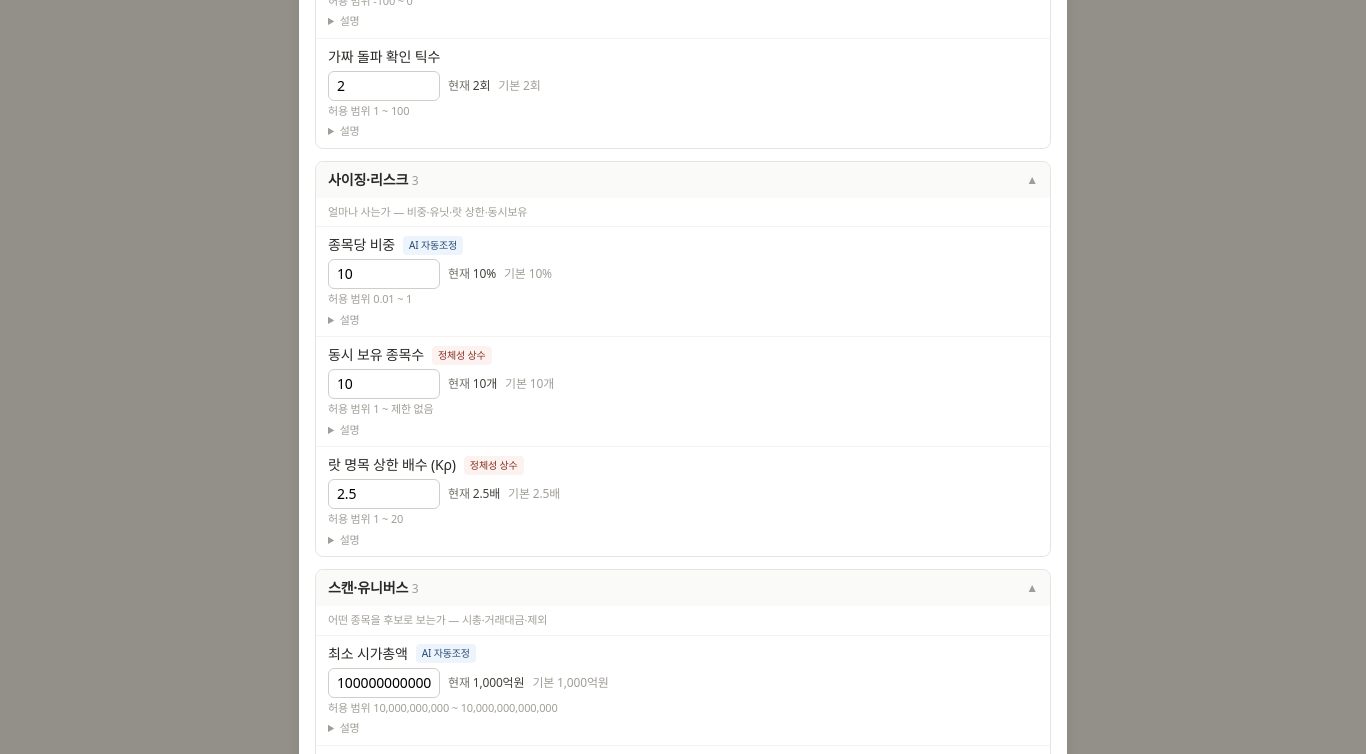
Test: cycle278 F09~F12 — 현재값/기본값·diff·정체성 2단계 확인 › F11 identity 키를 바꾸면 확인 체크박스가 나타나고 켜기 전에는 저장이 막힌다
The width and height of the screenshot is (1366, 754).
(page scrolled)
Replace the text in the field named "동시 보유 종목수" with "8" at (384, 384), box x1=328 y1=369 x2=440 y2=399
(page scrolled)
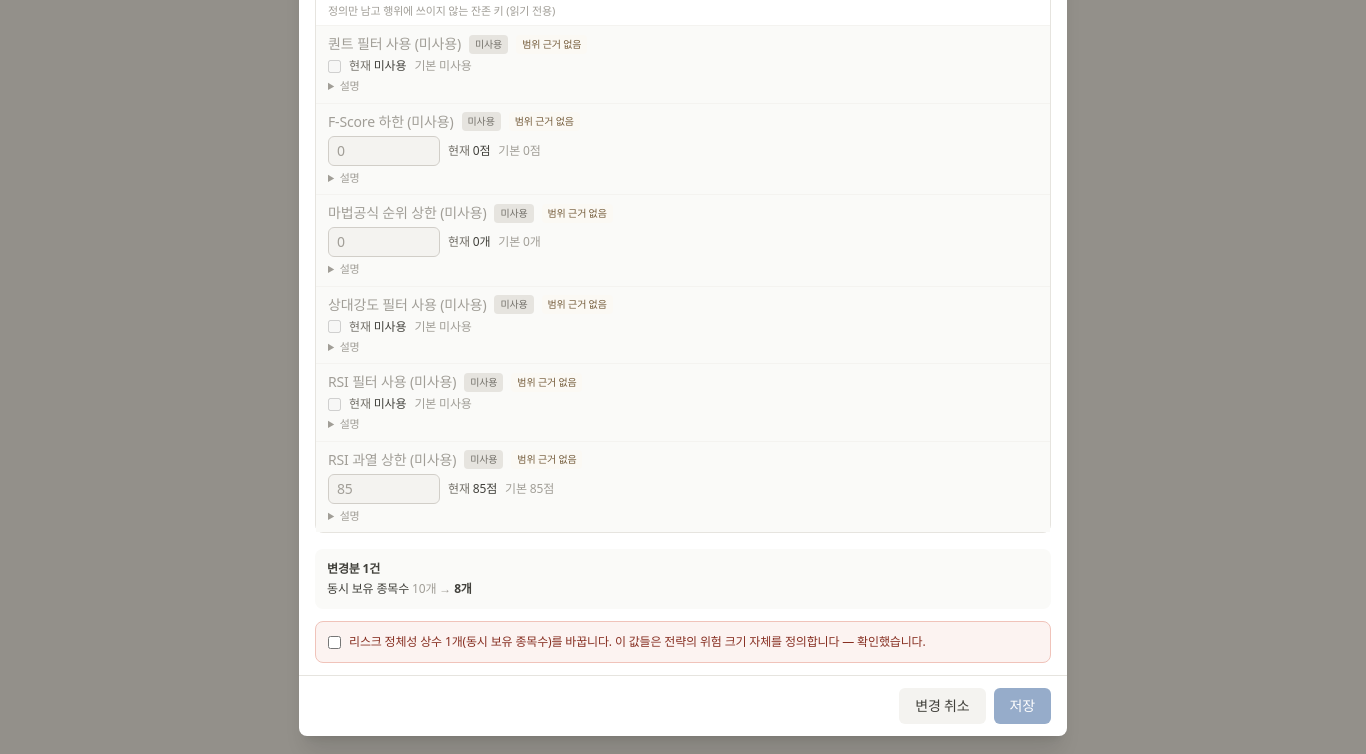
Expected: the checkbox with test id "strategy-params-identity-ack" is not checked
Expected: the button with test id "strategy-params-save" is disabled, x1=994 y1=688 x2=1051 y2=724
Click the checkbox with test id "strategy-params-identity-ack".
click(334, 642)  # box x1=328 y1=636 x2=341 y2=649
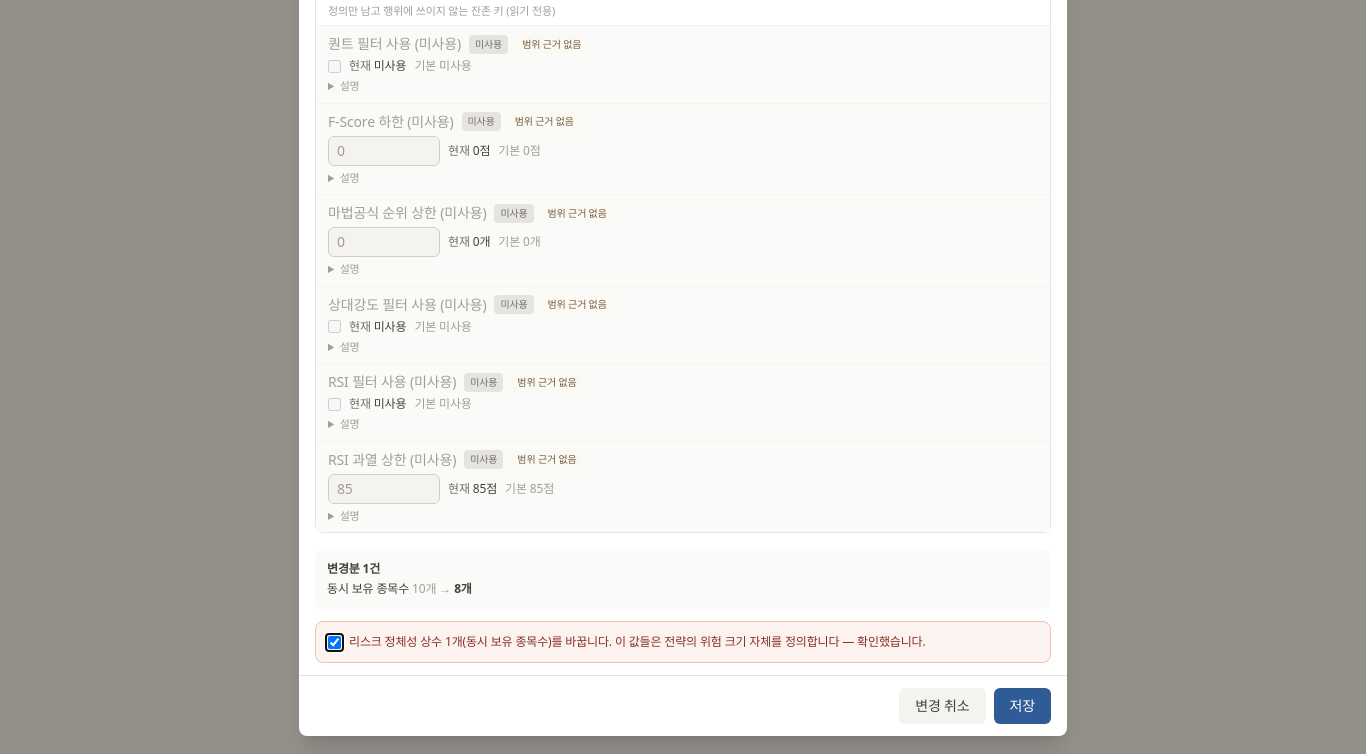
Expected: the button with test id "strategy-params-save" is enabled, x1=994 y1=688 x2=1051 y2=724
